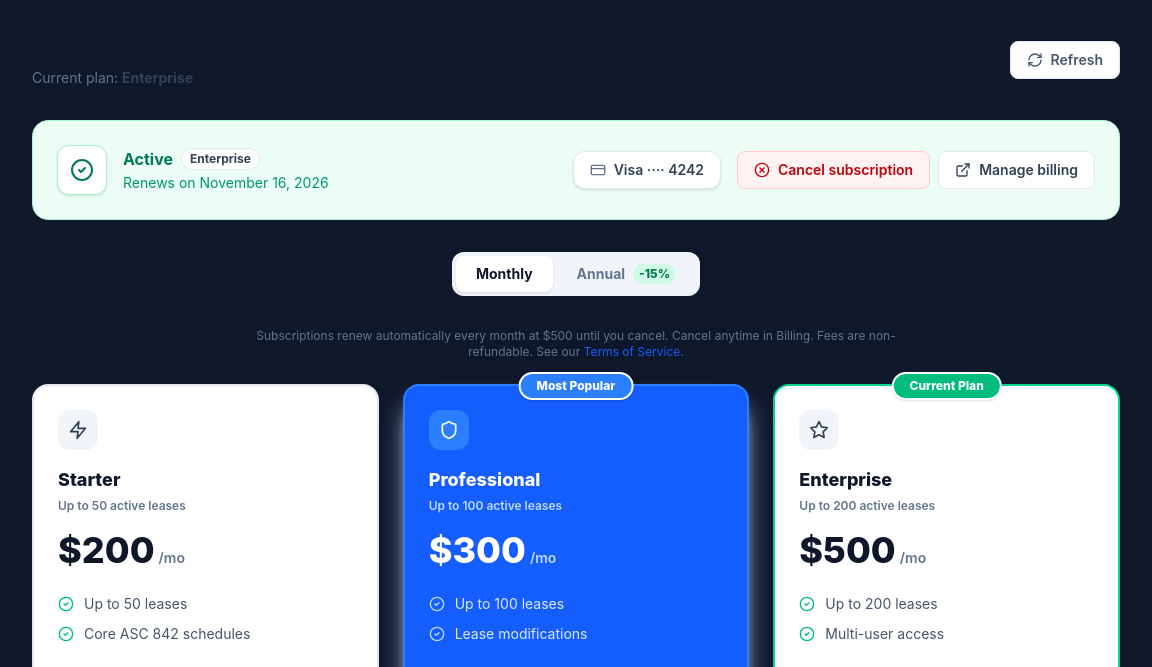
BillingView cancel/resume › shows the cancel confirmation dialog with the period end date and non-refundable notice
The width and height of the screenshot is (1152, 667).
Click the button "Cancel subscription".
click(834, 170)  # box [737,151,930,189]
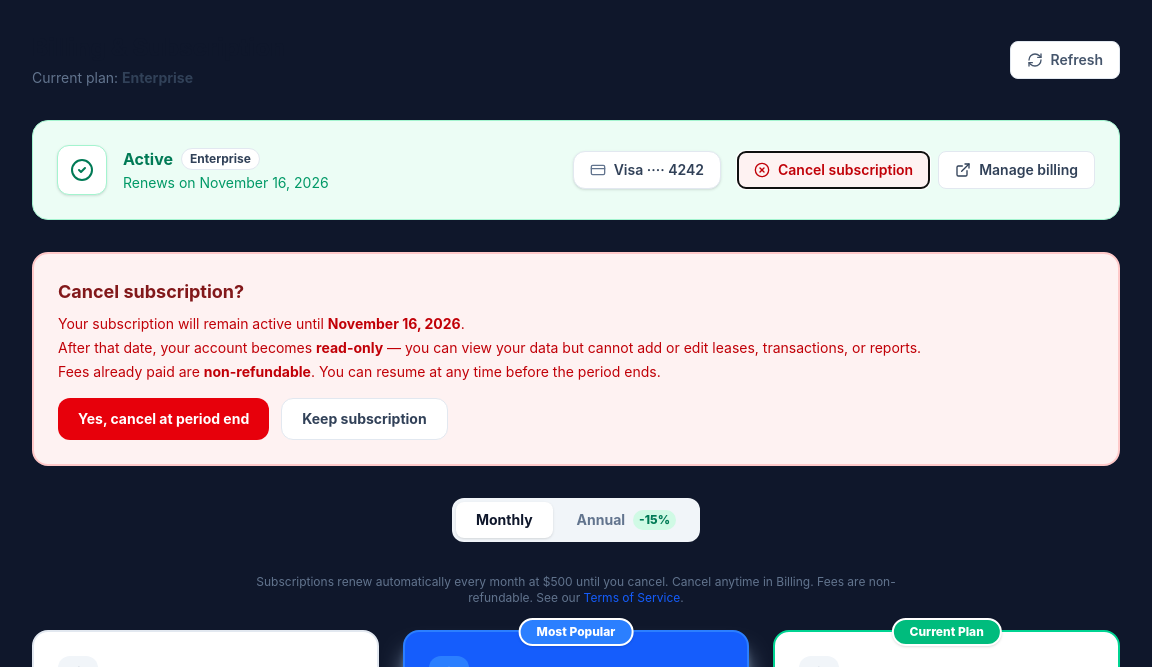
expect the text "Cancel subscription?" is shown: met, box [58,281,244,302]
expect the text "Cancel subscription?" shows "non-refundable": met, box [204,363,311,380]
expect the text "Cancel subscription?" shows "read-only": met, box [316,339,383,356]
